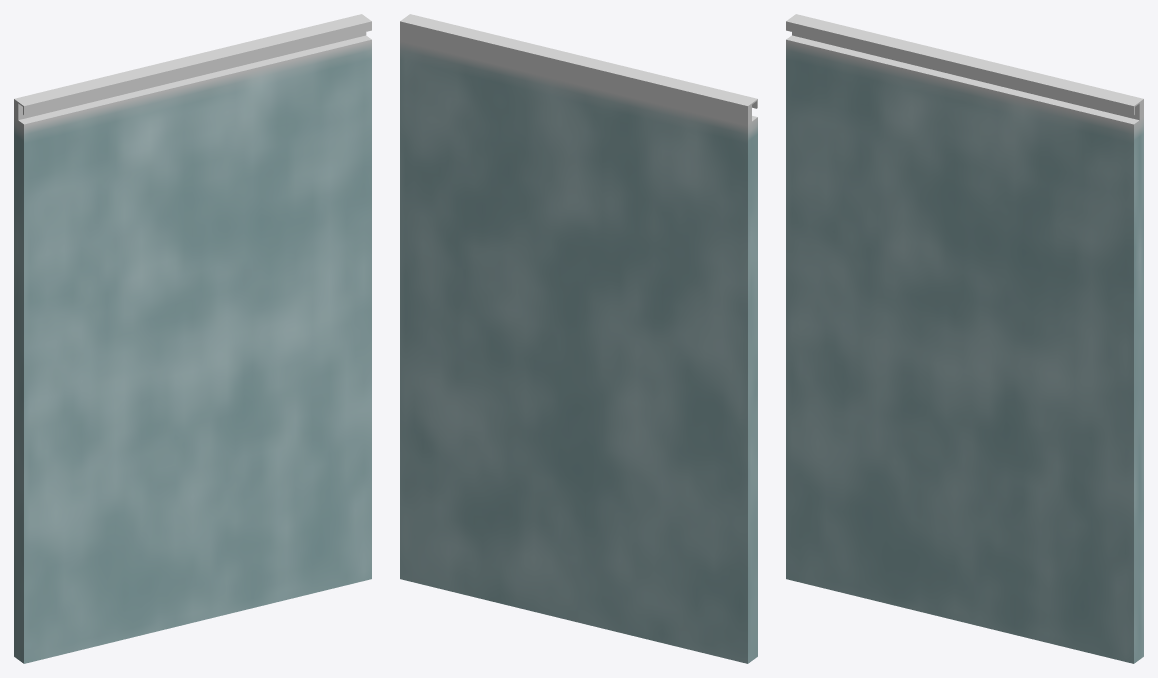
The model's file is lower_shelf_left_door.fbx.
3 renders of one model, left to right at view 1: azimuth 30°, elevation 25°; view 2: azimuth 150°, elevation 25°; view 3: azimuth 330°, elevation 25°, orthographic.
Parts seen in each view (by area): view 1: lower_shelf_left_door_Baked; view 2: lower_shelf_left_door_Baked; view 3: lower_shelf_left_door_Baked.
Part boxes in pixels (<box>): lower_shelf_left_door_Baked: <box>14,14,371,663</box>; lower_shelf_left_door_Baked: <box>400,14,757,663</box>; lower_shelf_left_door_Baked: <box>786,14,1143,663</box>.
Size of the model in its own units: 39.8 by 60.97 by 1.99.
